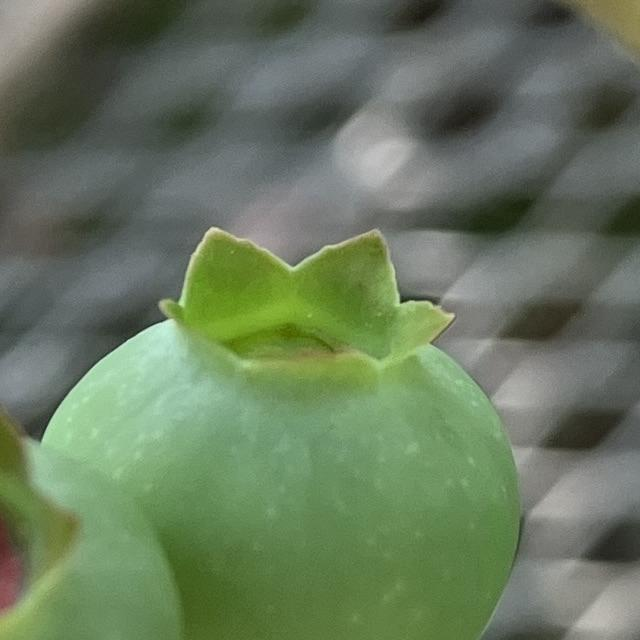Blueberries: (35, 220, 524, 640)
